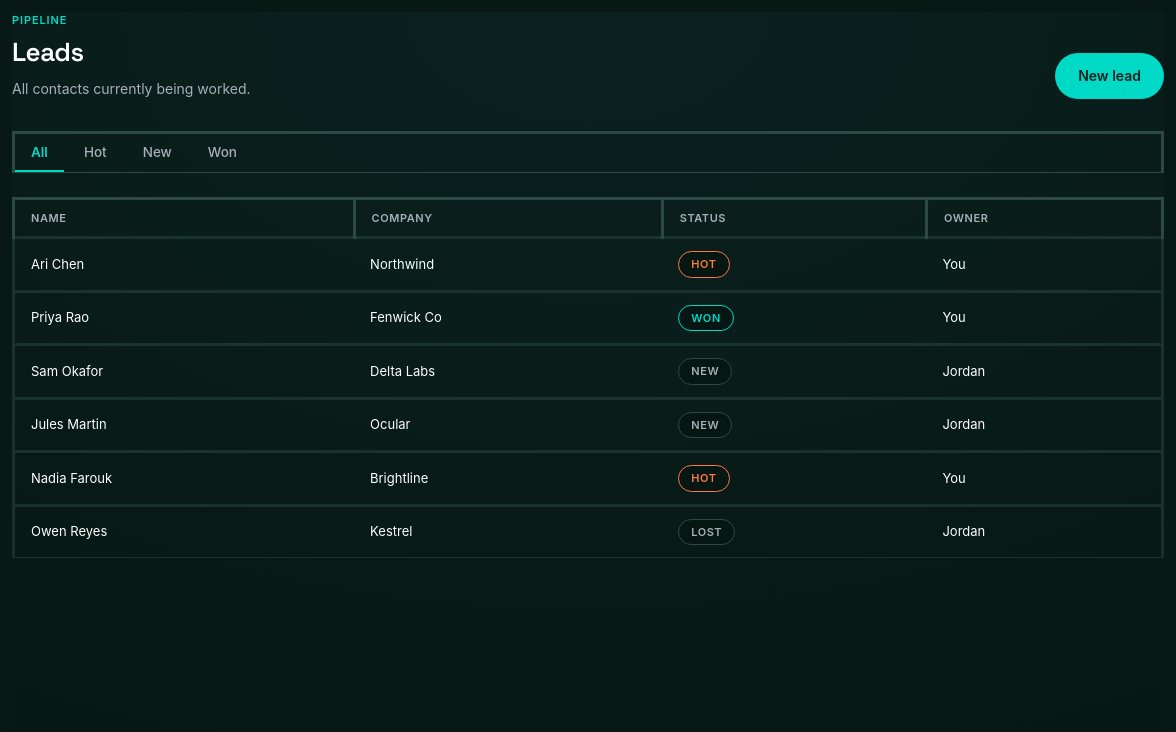
StandaloneKitView (branch) › filtert Leads per Tabs (all/hot/won/new)
Check: the text "Ari Chen" is shown, box x1=14 y1=238 x2=354 y2=291
Check: the text "Owen Reyes" is shown, box x1=14 y1=505 x2=354 y2=558
Click the tab "Hot" at (95, 152), box x1=68 y1=134 x2=123 y2=172
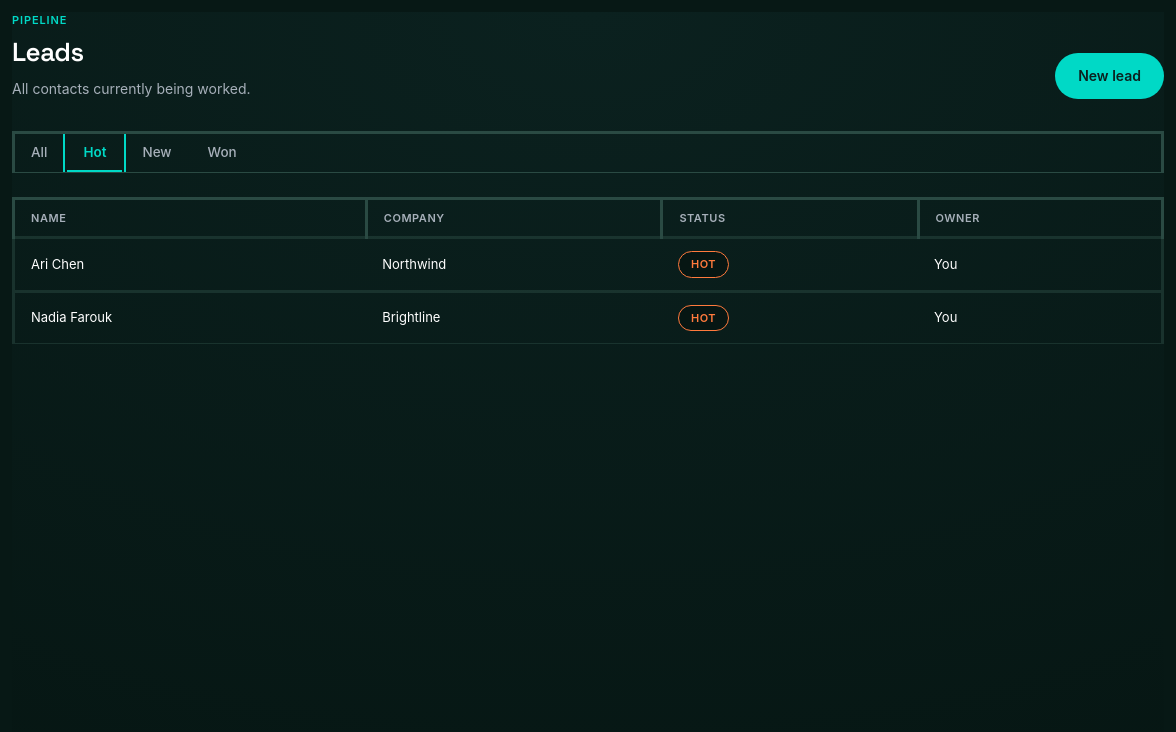
Check: the text "Ari Chen" is shown, box x1=14 y1=238 x2=366 y2=291
Check: the text "Nadia Farouk" is shown, box x1=14 y1=291 x2=366 y2=344
Check: the text "Sam Okafor" is gone
Click the tab "Won" at (222, 152), box x1=192 y1=134 x2=253 y2=172
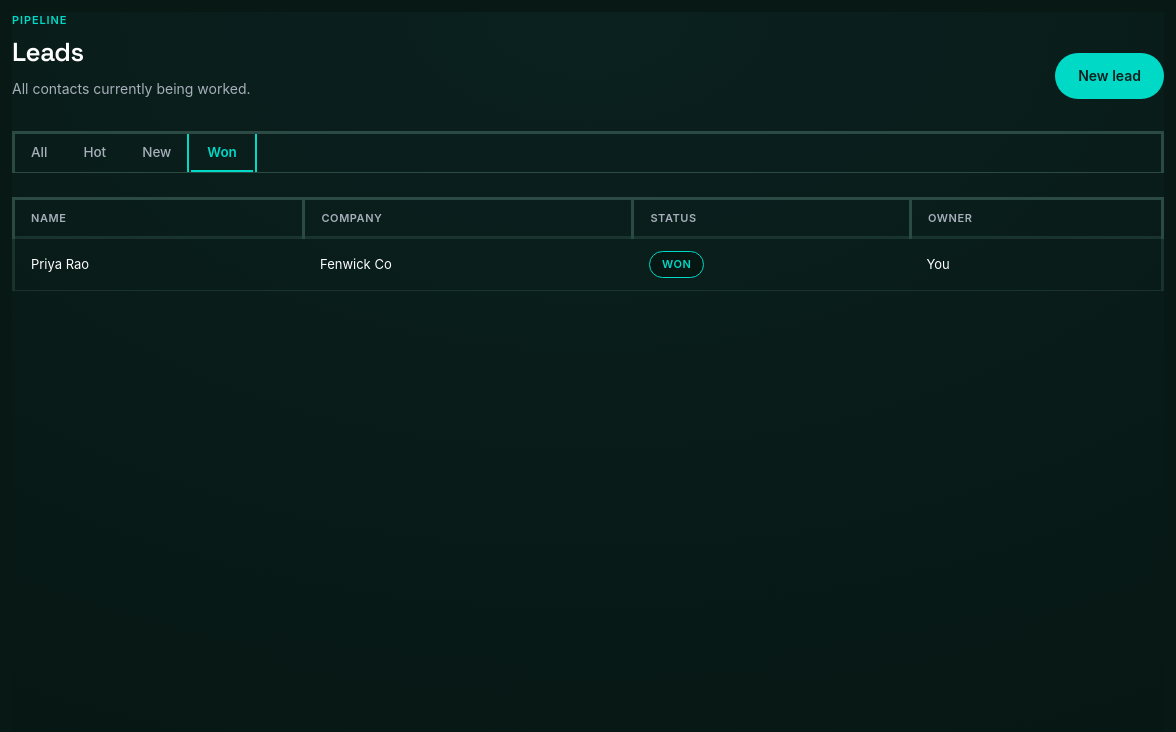
Check: the text "Priya Rao" is shown, box x1=14 y1=238 x2=304 y2=290
Check: the text "Ari Chen" is gone
Click the tab "New" at (157, 152), box x1=126 y1=134 x2=187 y2=172
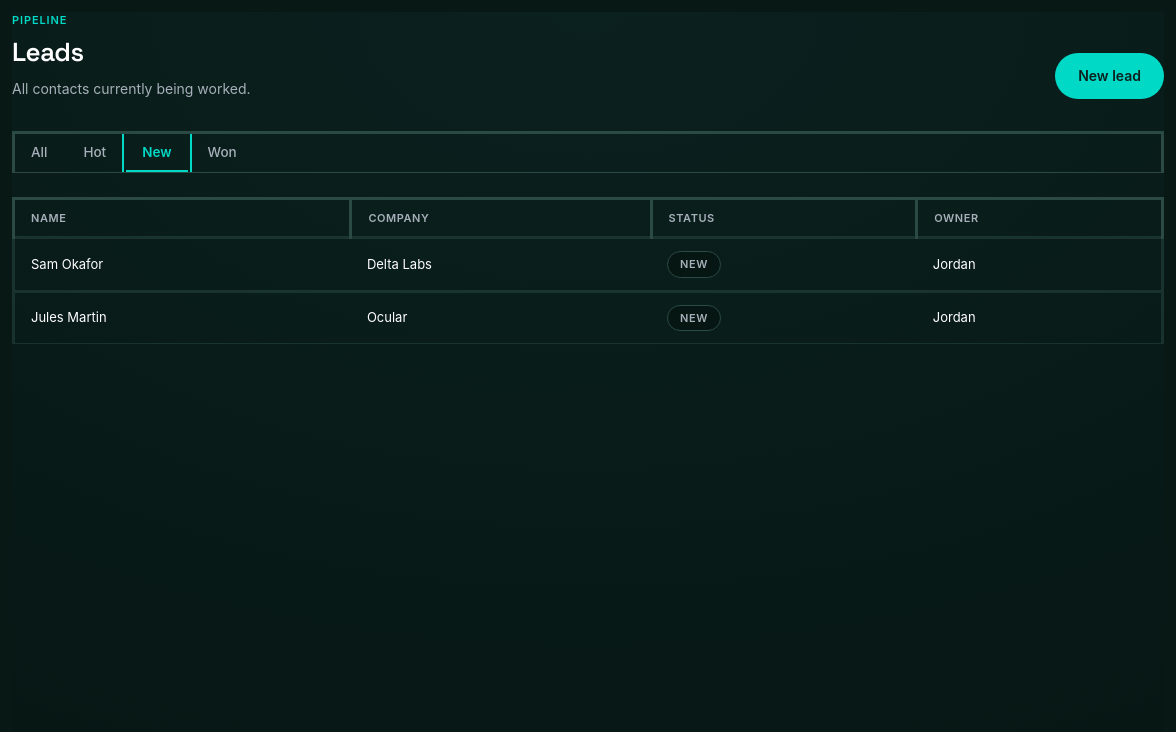
Check: the text "Sam Okafor" is shown, box x1=14 y1=238 x2=351 y2=291
Check: the text "Jules Martin" is shown, box x1=14 y1=291 x2=351 y2=344
Check: the text "Priya Rao" is gone
